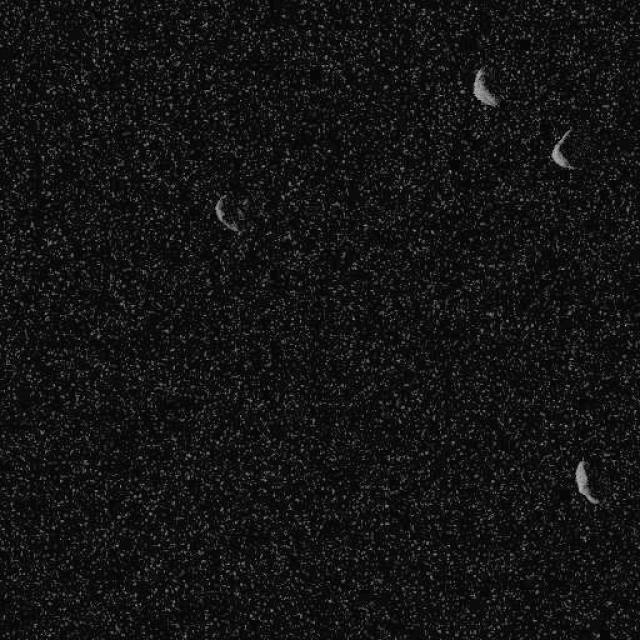D2: (549, 126, 579, 170), (572, 459, 600, 505), (471, 64, 500, 108), (212, 192, 242, 232)
